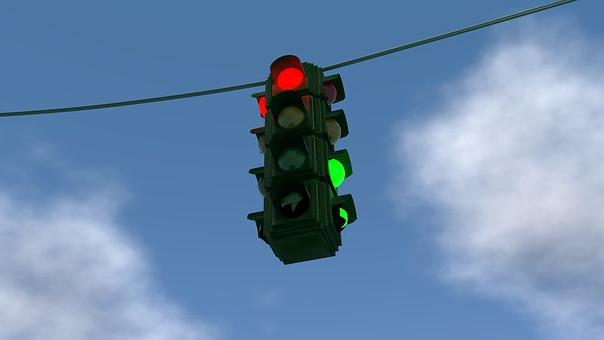trafic: (265, 56, 323, 231)
